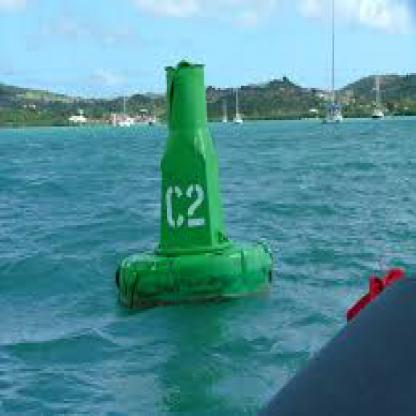buoy: (109, 45, 283, 292)
